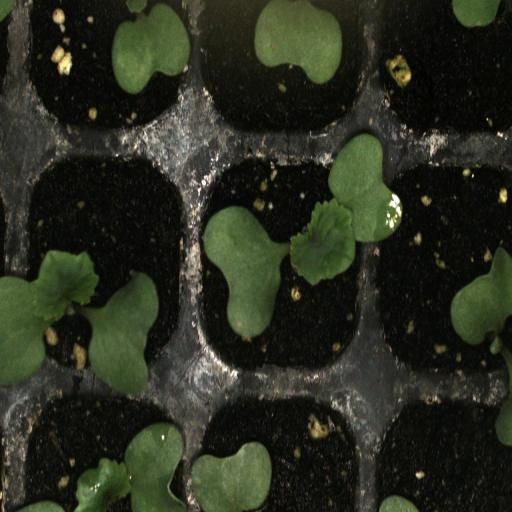Folha: (74, 422, 188, 512), (112, 0, 202, 94), (252, 0, 343, 85), (450, 248, 512, 345), (189, 441, 272, 512)
Germinacao: (14, 136, 191, 386), (194, 145, 376, 388)
